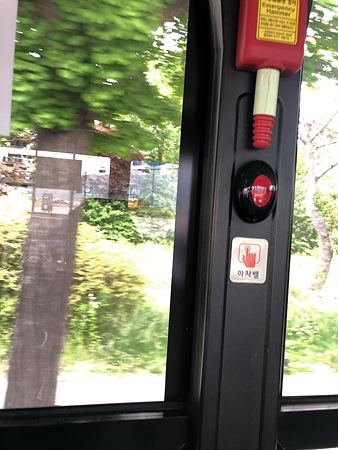bell: (231, 159, 278, 222)
